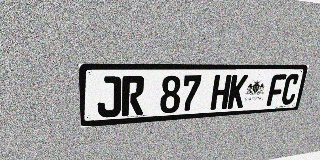7: (179, 75, 202, 112)
8: (159, 75, 182, 114)
C: (280, 74, 300, 105)
F: (266, 74, 287, 106)
H: (210, 75, 232, 110)
J: (97, 76, 121, 118)
K: (227, 75, 248, 109)
R: (121, 76, 145, 116)
